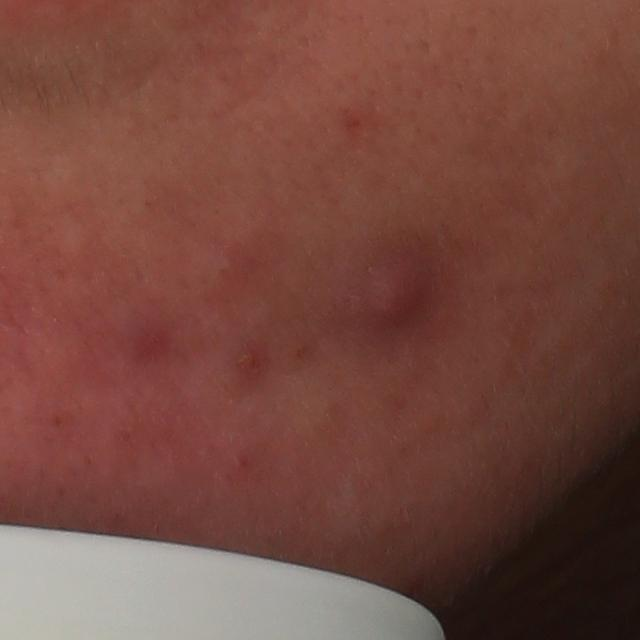papule: (358, 264, 423, 321)
